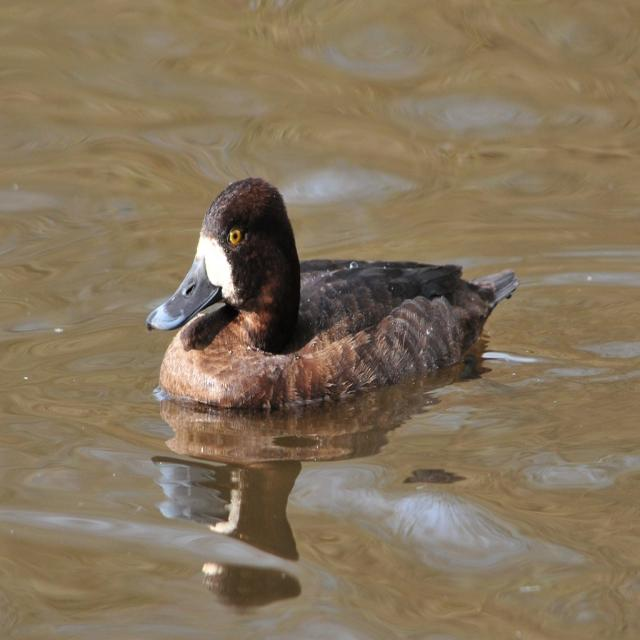bird: (146, 168, 520, 414)
